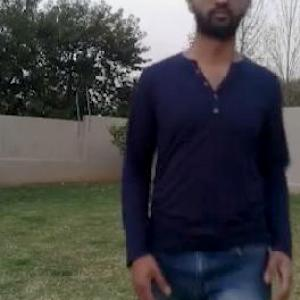follow: (144, 0, 266, 299)
